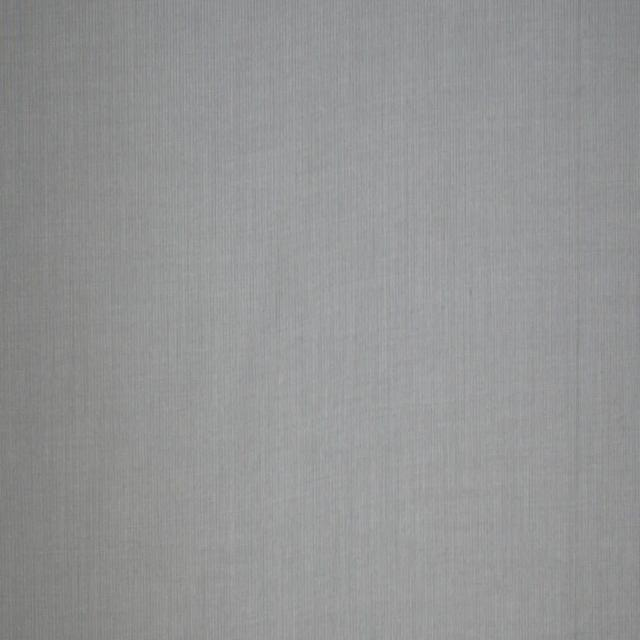dirty: (467, 289, 474, 297)
